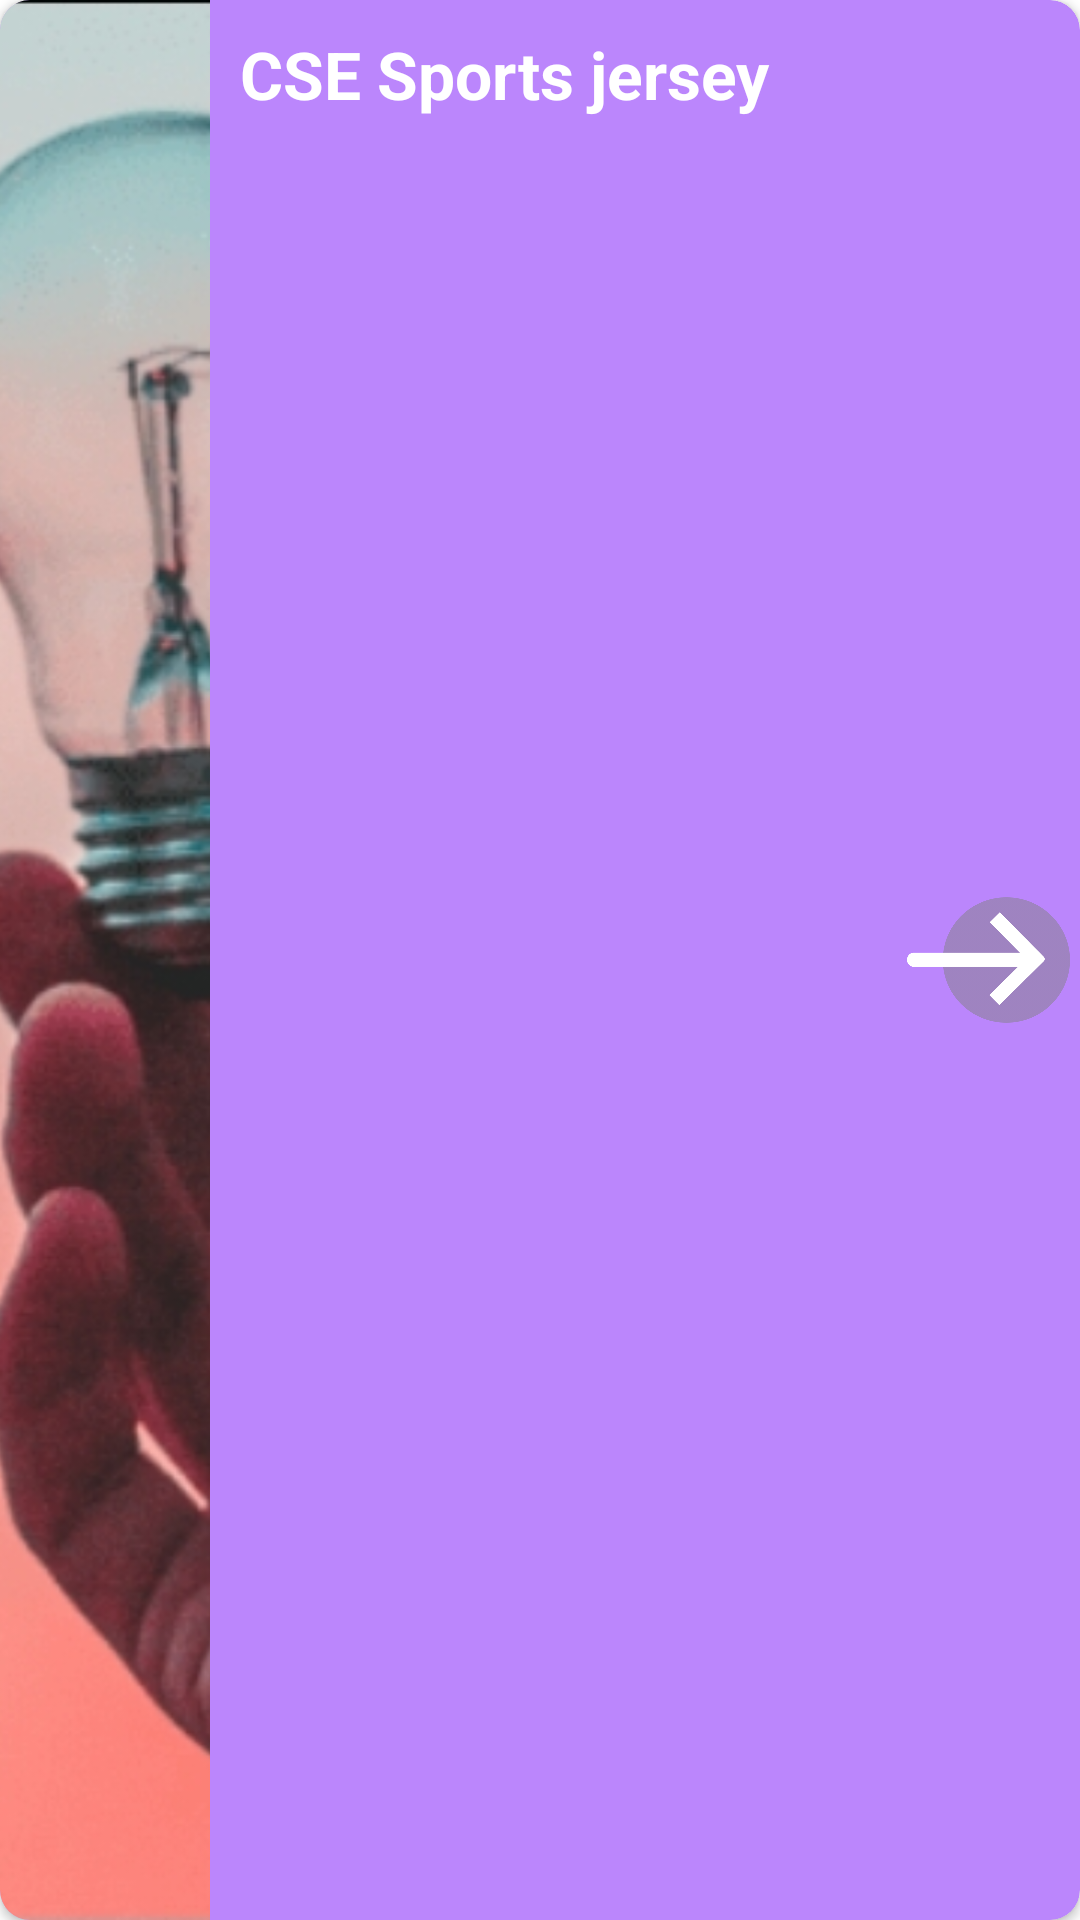

Screen size 1080 × 1920. Icon name, then its box in pixels as (x1, y1, x2, y2):
right: (907, 897, 1070, 1023)
